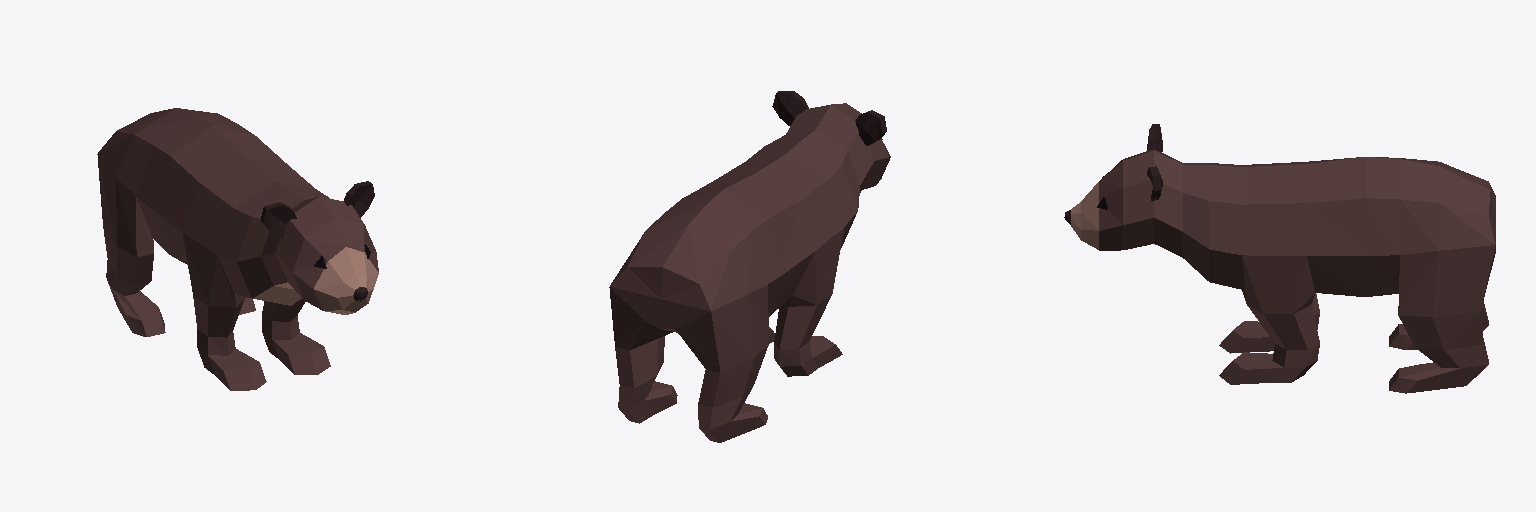
3 views of the same model, side by side, from view 1: azimuth 30°, elevation 25°; view 2: azimuth 150°, elevation 25°; view 3: azimuth 270°, elevation 25° (orthographic).
Parts seen in each view (by area): view 1: Geo_BearCub; view 2: Geo_BearCub; view 3: Geo_BearCub.
Boxes of the visible parts, <box> form: Geo_BearCub: <box>97,108,378,390</box>; Geo_BearCub: <box>609,91,890,442</box>; Geo_BearCub: <box>1064,124,1495,393</box>.
Size of the model in its own units: 35.58 by 58.42 by 106.
Materials: 1 (1 with a texture image).